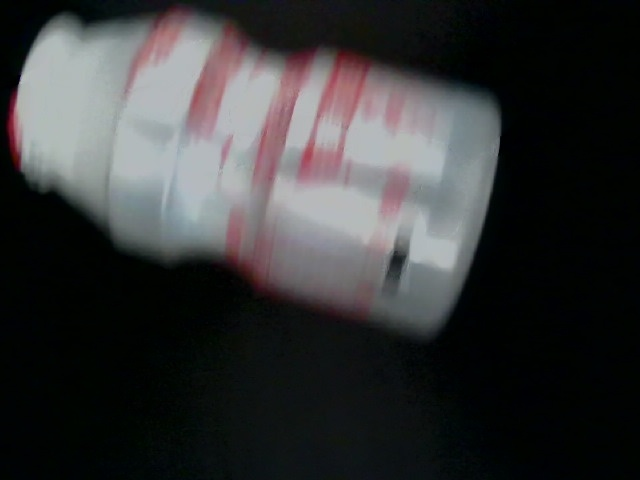CYLJ: (191, 1, 537, 288)
